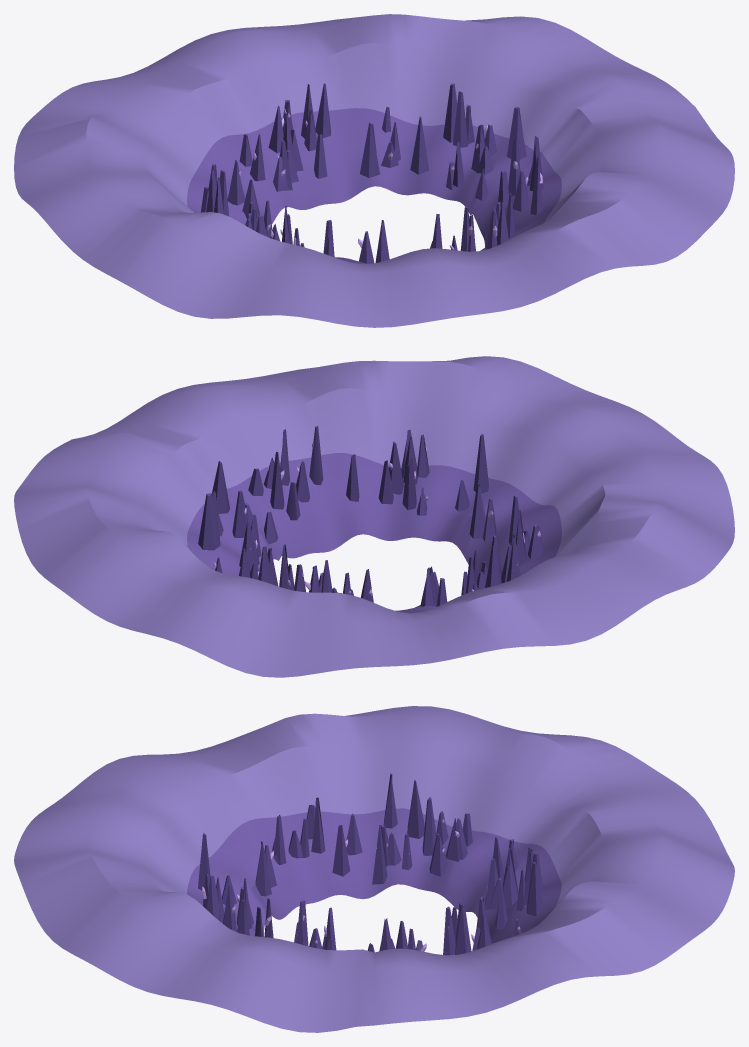
Rendered from Plateau_Backdrop.fbx.
3 renders of one model, top to bottom at view 1: azimuth 30°, elevation 25°; view 2: azimuth 150°, elevation 25°; view 3: azimuth 270°, elevation 25°, orthographic.
Parts seen in each view (by area): view 1: Plateau_Backdrop; view 2: Plateau_Backdrop; view 3: Plateau_Backdrop.
Boxes of the visible parts, bbox=[...] form: Plateau_Backdrop: bbox=[14, 14, 734, 327]; Plateau_Backdrop: bbox=[14, 356, 734, 677]; Plateau_Backdrop: bbox=[14, 706, 734, 1032].
Bounding box in the file's own units: 300 × 52.7 × 300.
